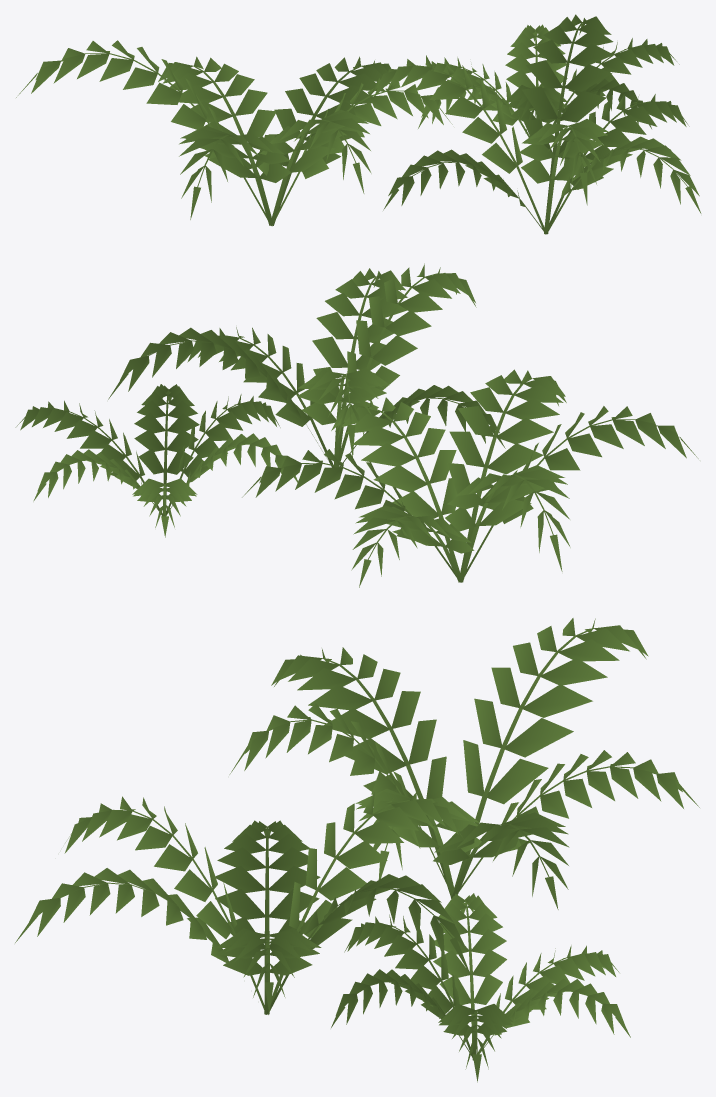
Rendered from ForestFern_71.glb.
The picture shows the model from 3 angles, top to bottom: view 1: azimuth 30°, elevation 25°; view 2: azimuth 150°, elevation 25°; view 3: azimuth 270°, elevation 25°; orthographic projection. The views are drawn at different scales.
Parts seen in each view (by area): view 1: ForestFern_71; view 2: ForestFern_71; view 3: ForestFern_71.
Part boxes in pixels (box(x1,y1,x2,y2)): ForestFern_71: box(16, 14, 701, 234); ForestFern_71: box(15, 263, 698, 587); ForestFern_71: box(15, 618, 699, 1082).
Size of the model in its own units: 1.6 by 0.4296 by 1.33.
